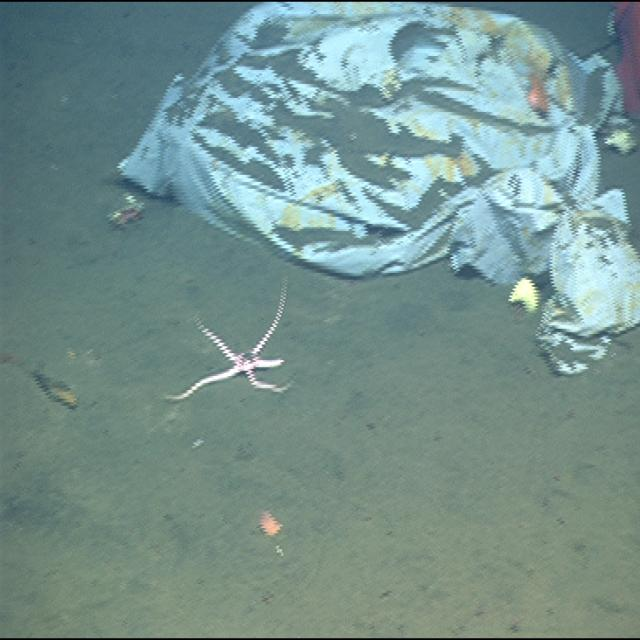Brittle Star: (161, 268, 293, 412)
